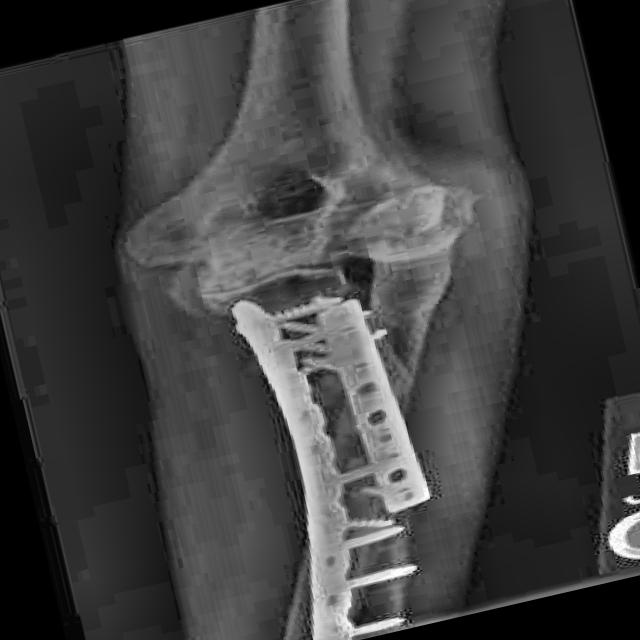elbow positive: (324, 170, 492, 283)
